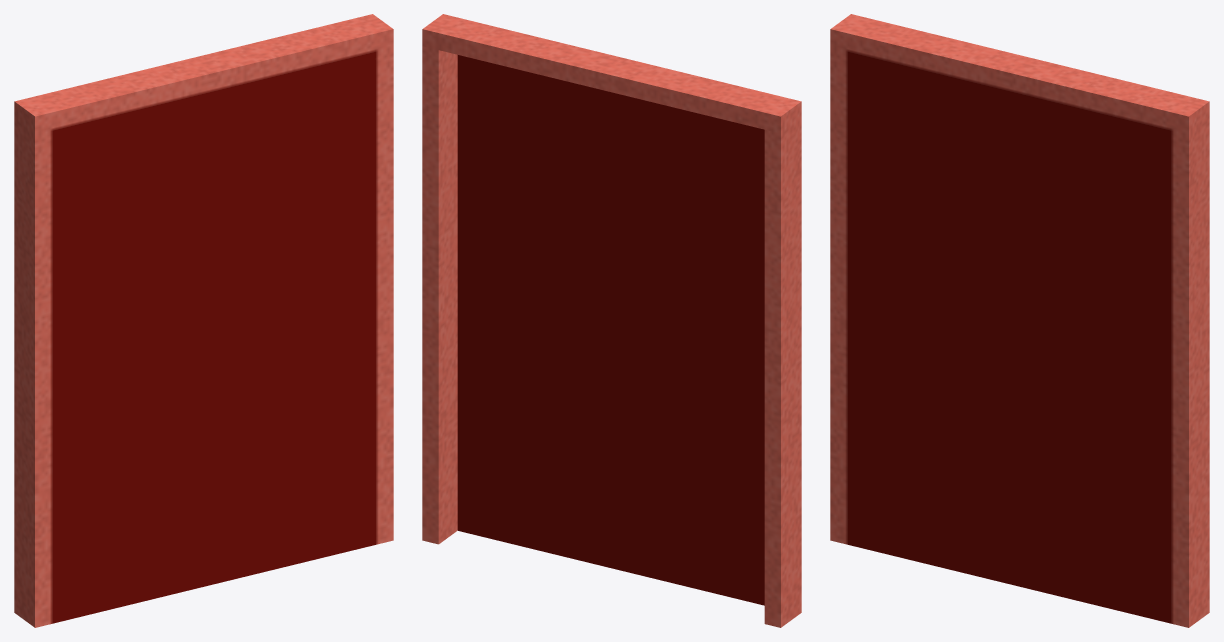
Rendered from Frame_Red.fbx.
3 renders of one model, left to right at view 1: azimuth 30°, elevation 25°; view 2: azimuth 150°, elevation 25°; view 3: azimuth 330°, elevation 25°, orthographic.
Parts seen in each view (by area): view 1: Frame_Red; view 2: Frame_Red; view 3: Frame_Red.
Boxes of the visible parts, <box> form: Frame_Red: <box>14,14,393,627</box>; Frame_Red: <box>422,14,801,627</box>; Frame_Red: <box>830,14,1209,627</box>.
Size of the model in its own units: 110 by 150 by 11.
Materials: 1 (1 with a texture image).
